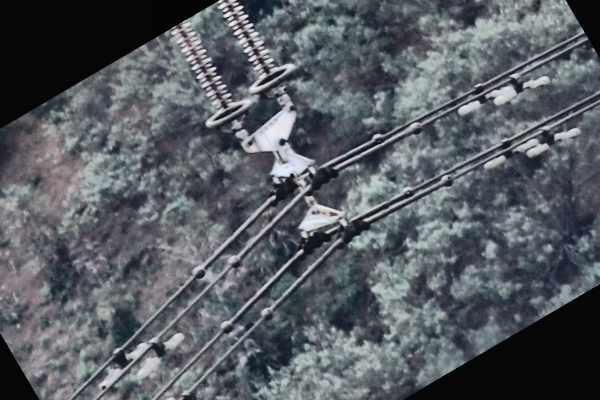damper: (135, 331, 185, 382), (99, 339, 146, 391), (481, 134, 539, 171), (492, 71, 551, 107), (525, 124, 582, 159), (456, 82, 509, 116)
